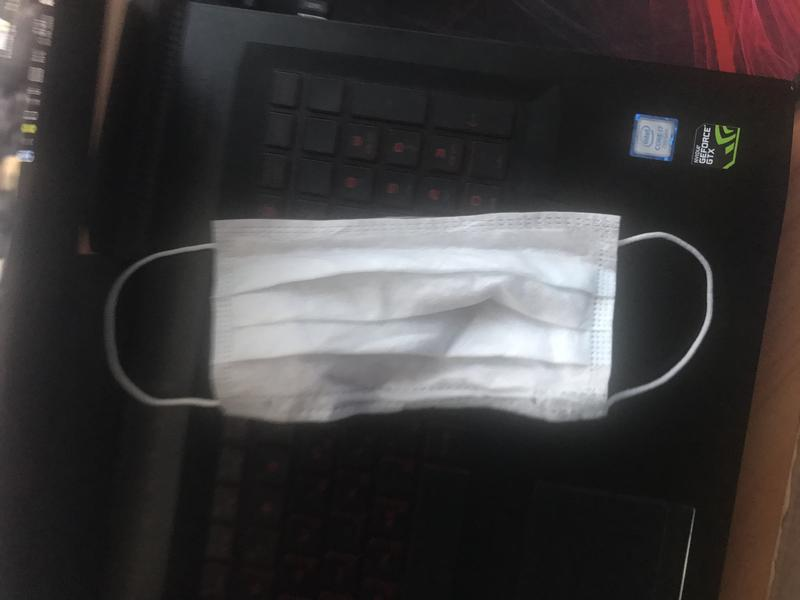medical_mask: (106, 214, 716, 427)
